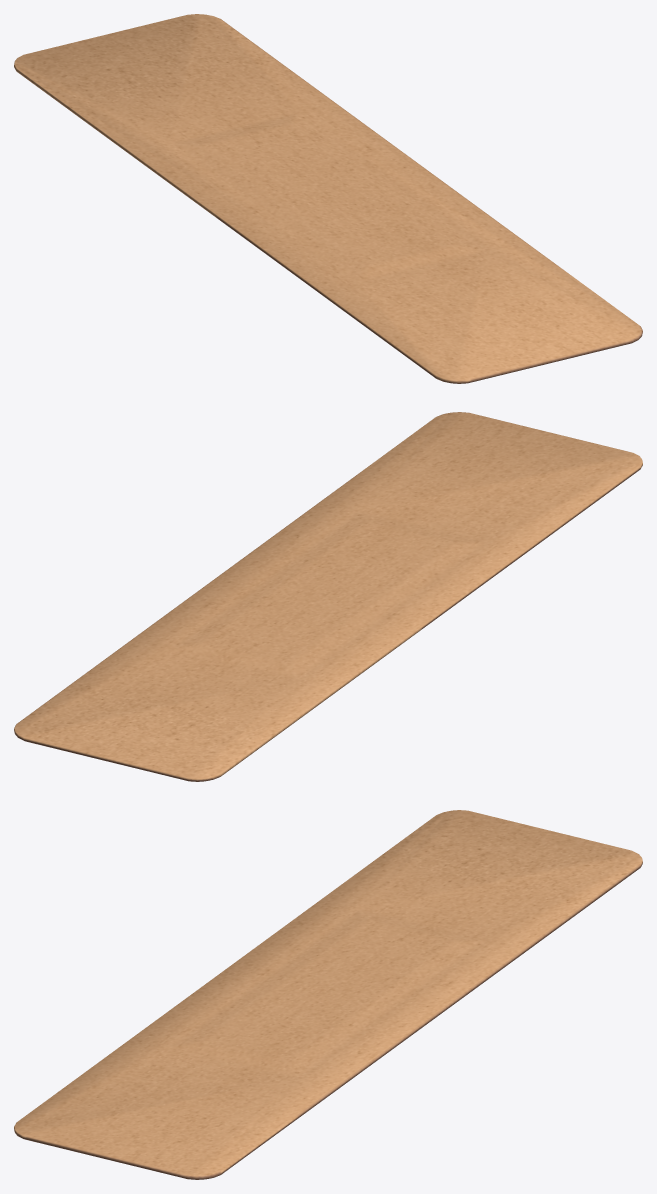
File: Plaster_Long.fbx
3 views of the same model, one above another, from view 1: azimuth 30°, elevation 25°; view 2: azimuth 150°, elevation 25°; view 3: azimuth 330°, elevation 25° (orthographic).
Visible parts, largest first — view 1: Plaster_Long; view 2: Plaster_Long; view 3: Plaster_Long.
Part boxes in pixels (x1,y1,x2,y2): Plaster_Long: [14, 14, 642, 383]; Plaster_Long: [14, 412, 642, 781]; Plaster_Long: [14, 810, 642, 1179].
Bounding box in the file's own units: 2.1 × 0.1179 × 7.9.
1 material, 1 textured.
